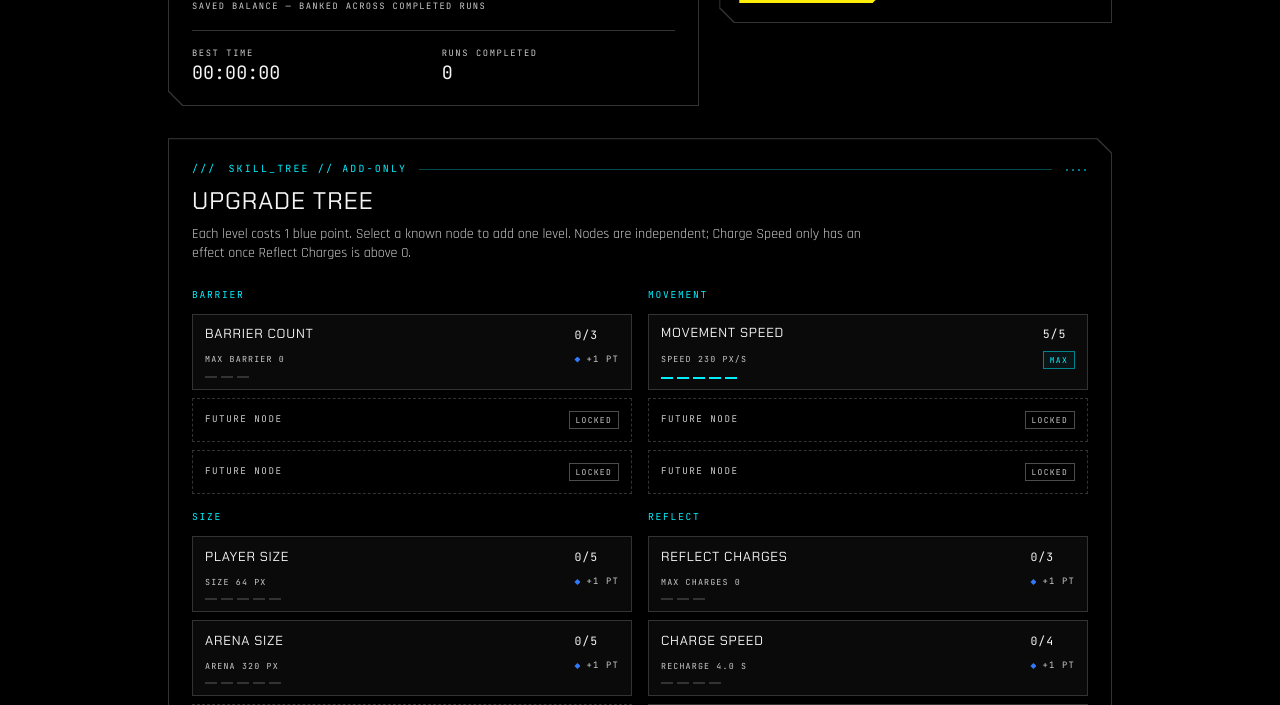
Test case: SkillsScreen › announces max and insufficient points without writing
(page scrolled)
Click the button "Movement Speed 5/5 SPEED 230 PX/S MAX" at point(723, 333), box [648,314,1088,390]
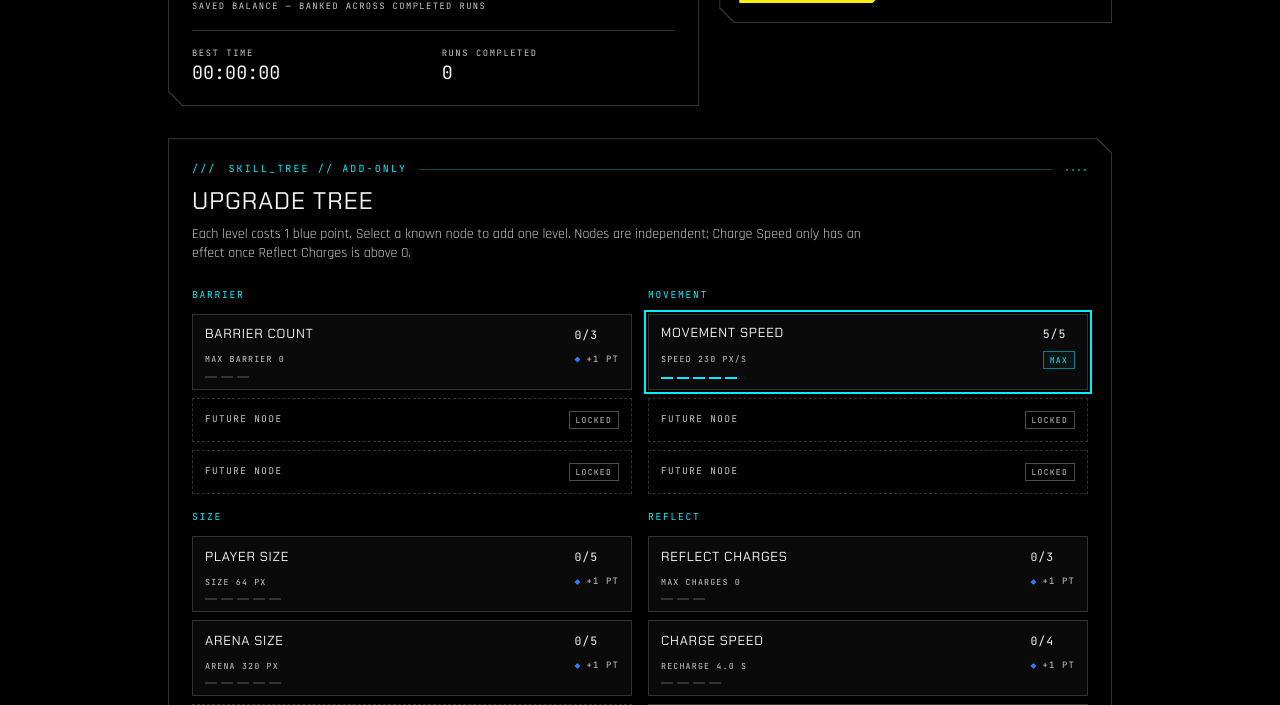
Click the button "Player Size 0/5 SIZE 64 PX +1 PT" at point(247, 556), box [192,536,632,612]
(page scrolled)
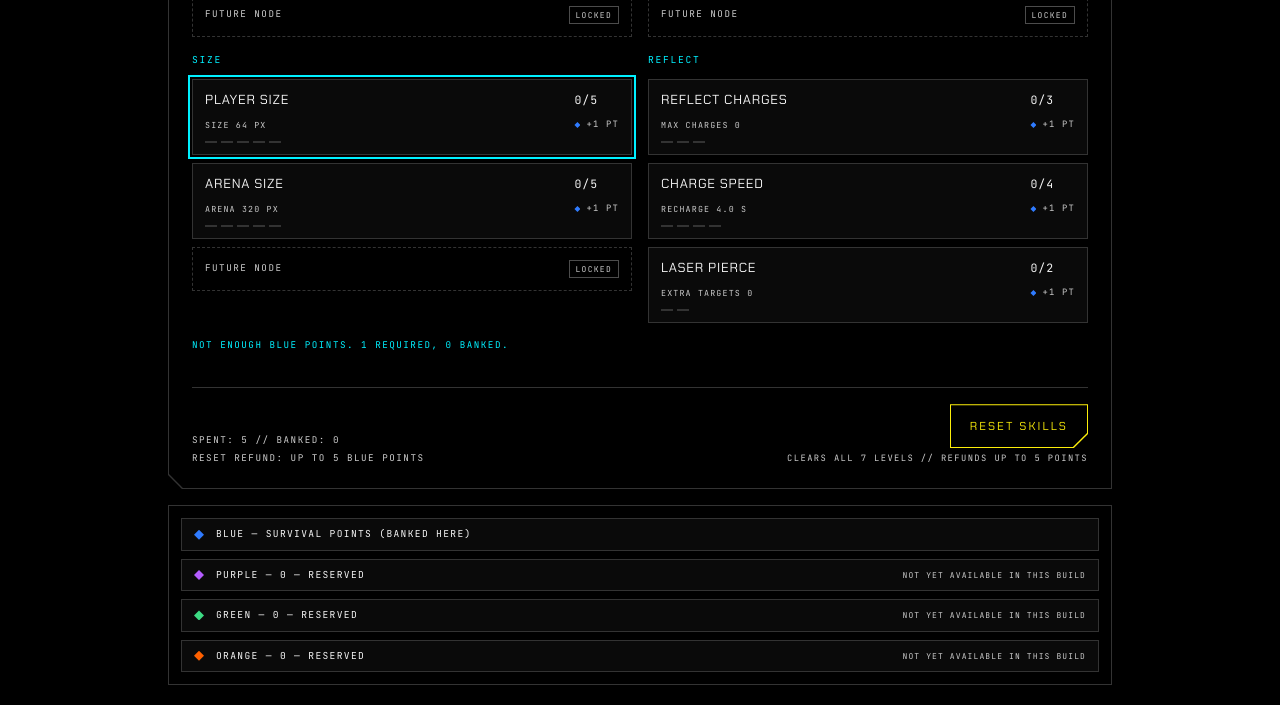
Check: the message reads "NOT ENOUGH BLUE POINTS. 1 REQUIRED, 0 BANKED.", box [192,339,509,351]
